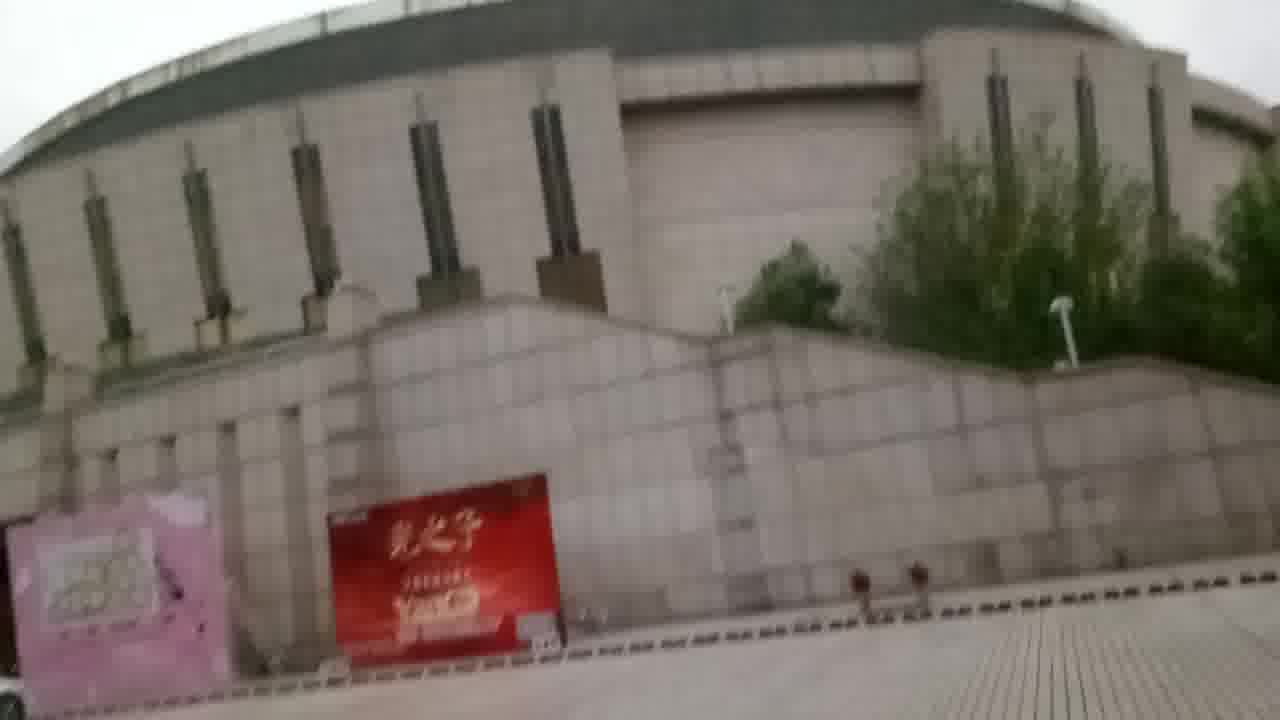zhongtiww: (14, 2, 1280, 624)
